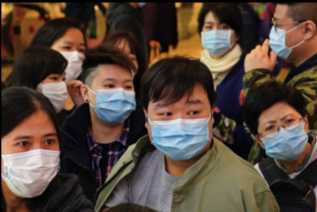with_mask: (1, 130, 62, 201), (148, 97, 212, 161), (257, 111, 309, 161), (94, 76, 137, 126), (50, 39, 86, 82), (200, 18, 233, 57), (39, 71, 69, 113), (268, 14, 293, 61)
